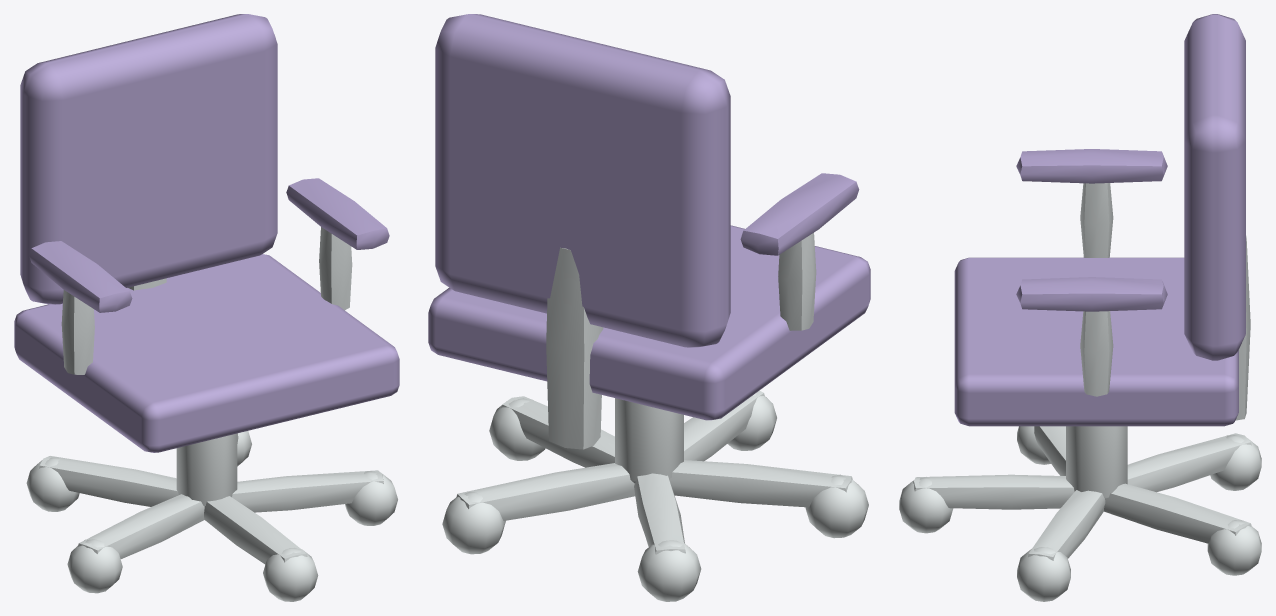
The model's file is office-chair-lavender.glb.
The picture shows the model from 3 angles, left to right: view 1: azimuth 30°, elevation 25°; view 2: azimuth 150°, elevation 25°; view 3: azimuth 270°, elevation 25°; orthographic projection. The views are drawn at different scales.
Parts seen in each view (by area): view 1: part (×14), mesh-back; view 2: part (×15), mesh-back; view 3: part (×17), mesh-back.
Part boxes in pixels (x1,y1,x2,y2): part (×14): (14, 178, 399, 601); mesh-back: (20, 14, 277, 304); part (×15): (428, 173, 870, 601); mesh-back: (435, 14, 730, 347); part (×17): (899, 149, 1261, 601); mesh-back: (1184, 14, 1245, 360).
Bounding box in the file's own units: 0.8048 × 1.08 × 0.7654.
Materials: 1 (1 with a texture image).
